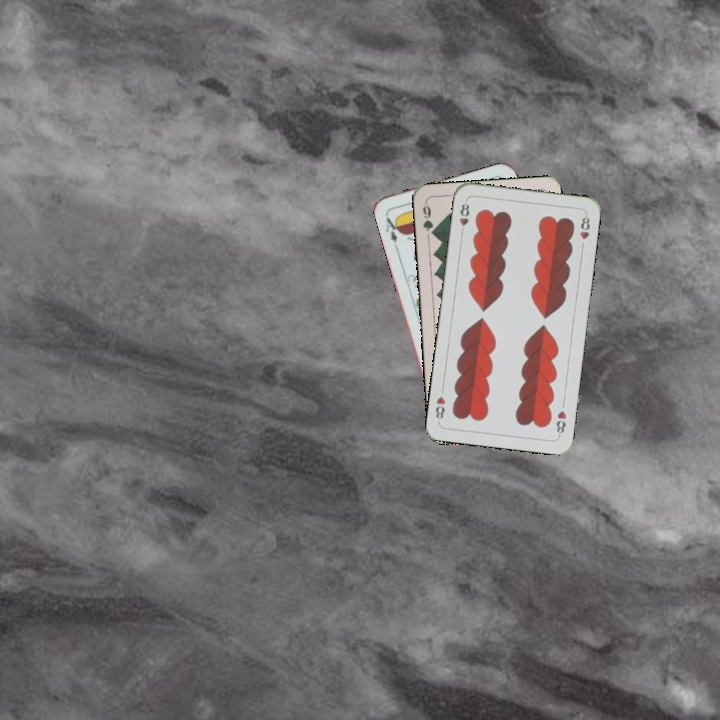EA: (381, 210, 403, 250)
G9: (419, 199, 438, 239)
H8: (455, 197, 472, 237), (552, 407, 569, 439)
